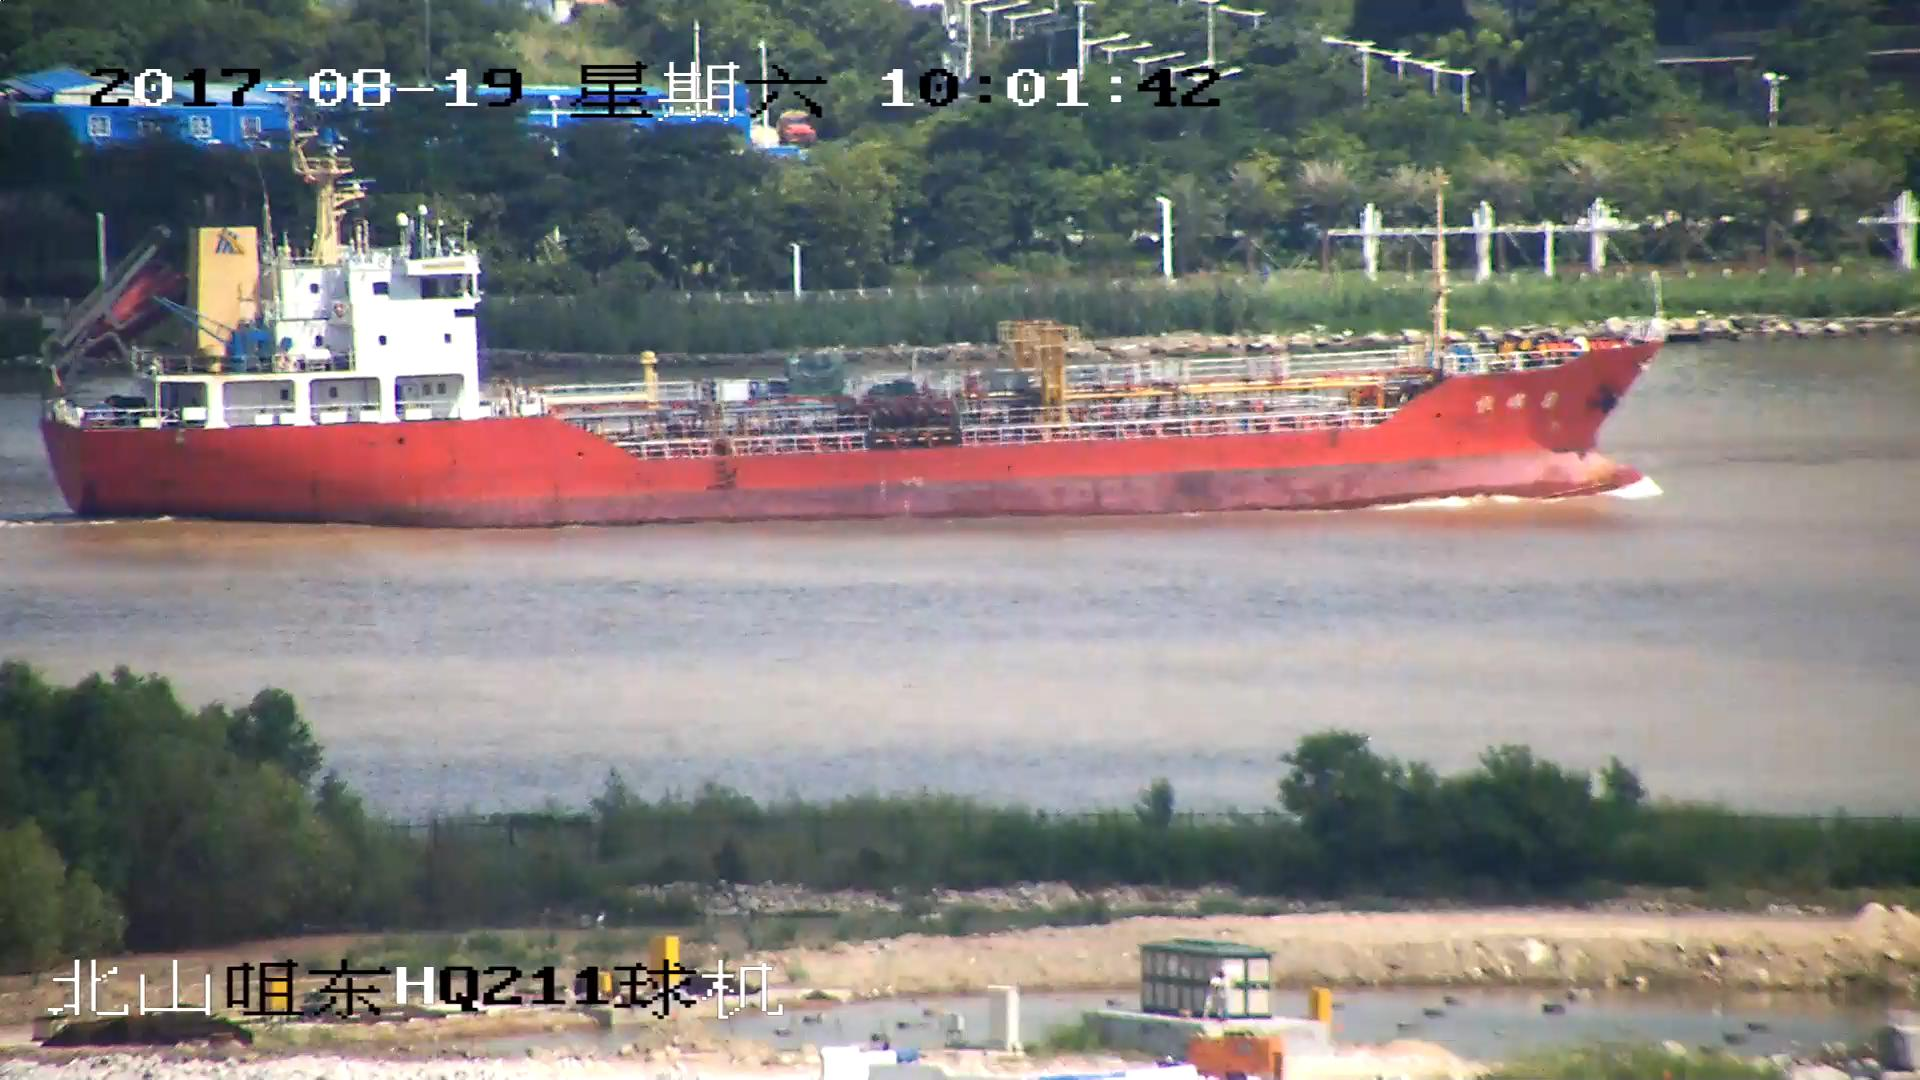general cargo ship: (40, 175, 1660, 526)
